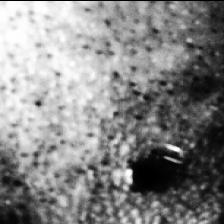Unclassified: (122, 162, 159, 194)
